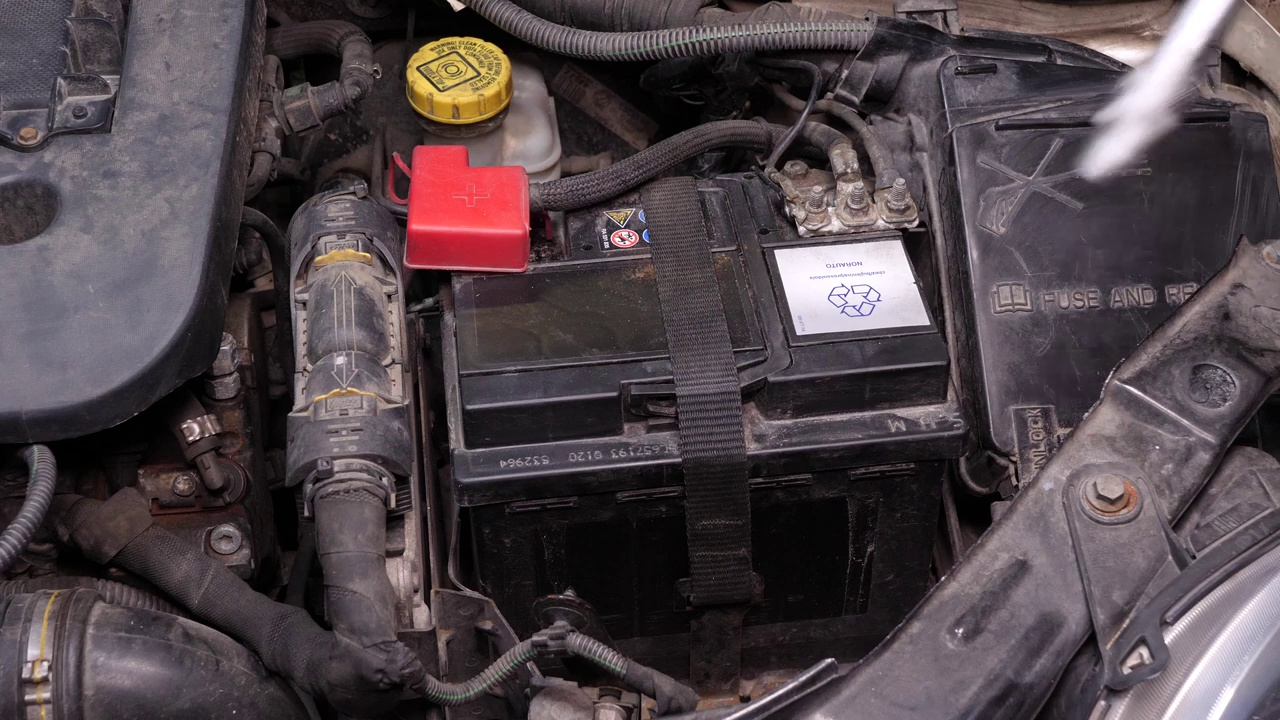battery: (399, 132, 970, 465)
neg_connected: (739, 131, 930, 252)
pos_connected: (402, 139, 561, 301)
